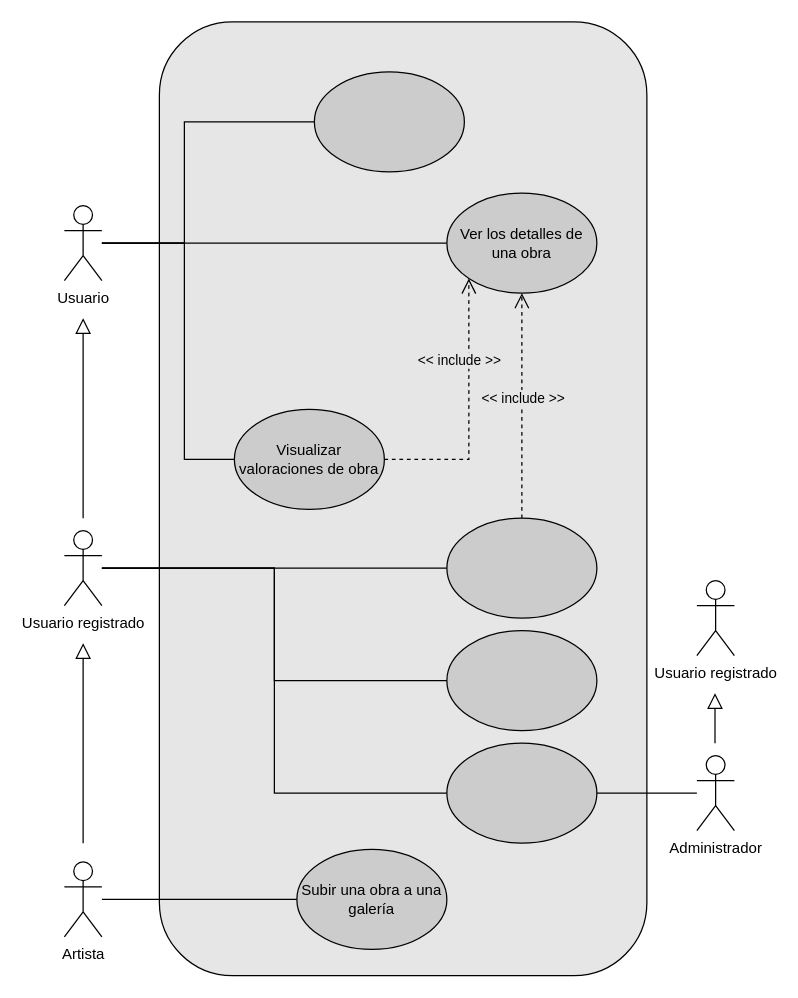
Image size: 798x998. Some labels were removed from this diagram. Each missing label, with the centre of its shape:
"Eliminar cuenta" belongs at pixel 521 792.
"Iniciar sesión" belongs at pixel 521 680.
"Registrarse en la aplicación" belongs at pixel 388 121.
"Valorar una obra" belongs at pixel 521 567.
